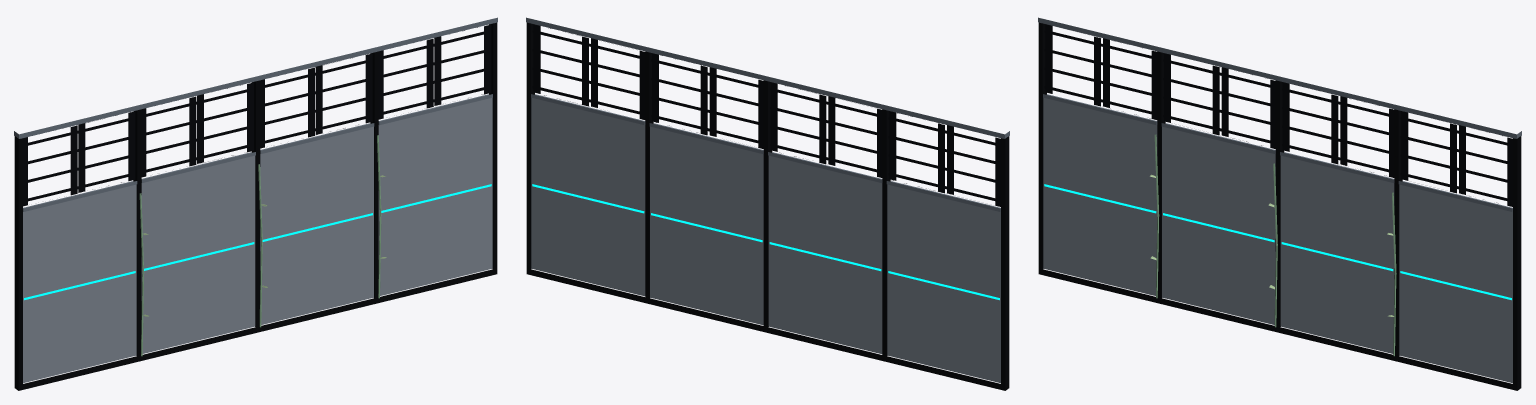
File: tt_axe_partition.glb
3 views of the same model, side by side, from view 1: azimuth 30°, elevation 25°; view 2: azimuth 150°, elevation 25°; view 3: azimuth 330°, elevation 25° (orthographic).
Parts seen in each view (by area): view 1: Part_Acoustic, Part_Net_Scissor, Part_Posts, Part_Sill, Part_TopRail, Part_MidRail, Part_Reveal, Vine_Stems; view 2: Part_Acoustic, Part_Net_Scissor, Part_Posts, Part_Sill, Part_TopRail, Part_MidRail, Part_Reveal; view 3: Part_Acoustic, Part_Net_Scissor, Part_Posts, Part_Sill, Part_TopRail, Part_MidRail, Part_Reveal, Vine_Stems.
Boxes of the visible parts, x1,y1,x2,y2 form: Part_Acoustic: [23, 97, 492, 383]; Part_Net_Scissor: [23, 24, 491, 206]; Part_Posts: [14, 22, 497, 384]; Part_Sill: [14, 268, 497, 390]; Part_TopRail: [14, 17, 497, 138]; Part_MidRail: [23, 94, 492, 211]; Part_Reveal: [24, 184, 491, 300]; Vine_Stems: [139, 135, 381, 356]; Part_Acoustic: [531, 97, 1000, 383]; Part_Net_Scissor: [532, 24, 1000, 206]; Part_Posts: [526, 22, 1009, 384]; Part_Sill: [526, 268, 1009, 390]; Part_TopRail: [526, 17, 1009, 138]; Part_MidRail: [531, 94, 1000, 211]; Part_Reveal: [532, 184, 999, 300]; Part_Acoustic: [1043, 97, 1512, 383]; Part_Net_Scissor: [1044, 24, 1512, 206]; Part_Posts: [1038, 22, 1521, 384]; Part_Sill: [1038, 268, 1521, 390]; Part_TopRail: [1038, 17, 1521, 138]; Part_MidRail: [1043, 94, 1512, 211]; Part_Reveal: [1044, 184, 1511, 300]; Vine_Stems: [1154, 134, 1396, 356].
Size of what is drawn, in the model's own units: 6.75 by 3.46 by 0.3455.
7 materials, 3 textured.
